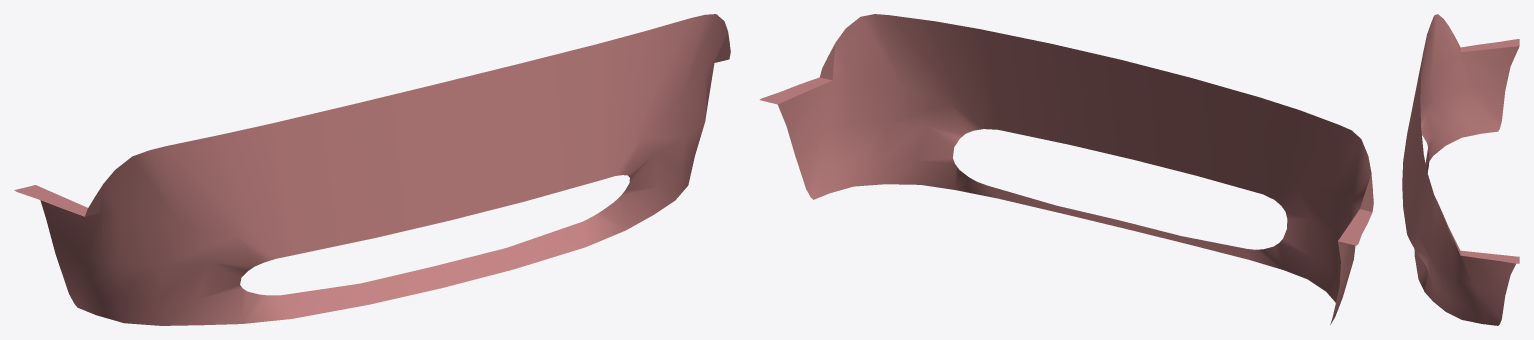
File: MX5_FB01_Trim.fbx
3 views of the same model, side by side, from view 1: azimuth 30°, elevation 25°; view 2: azimuth 150°, elevation 25°; view 3: azimuth 270°, elevation 25° (orthographic). The views are drawn at different scales.
Parts seen in each view (by area): view 1: MX5_FB01_Trim; view 2: MX5_FB01_Trim; view 3: MX5_FB01_Trim.
Boxes of the visible parts, x1,y1,x2,y2 form: MX5_FB01_Trim: (14,14,730,325); MX5_FB01_Trim: (759,14,1373,324); MX5_FB01_Trim: (1402,14,1519,325).
Size of the model in its own units: 156 by 43.08 by 34.59.
